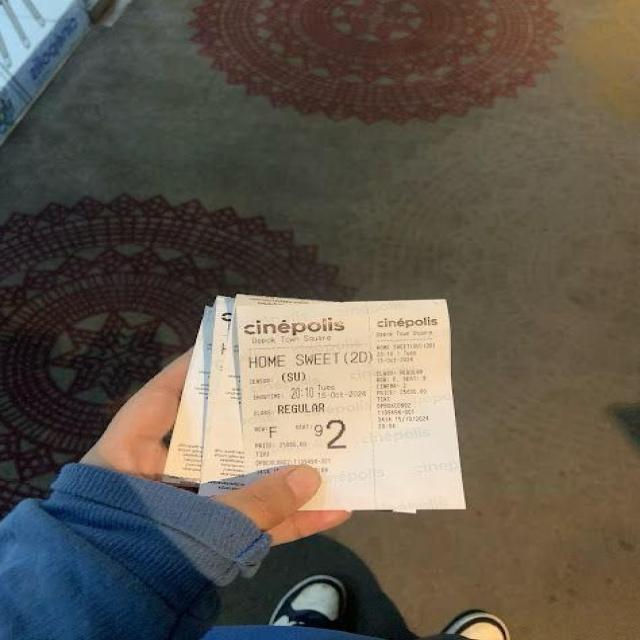date: (289, 384, 371, 399)
store: (240, 316, 370, 346)
total: (250, 440, 311, 450)
